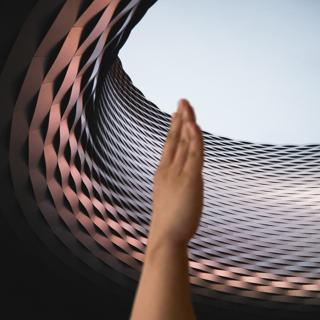RIGHT: (143, 93, 212, 261)
